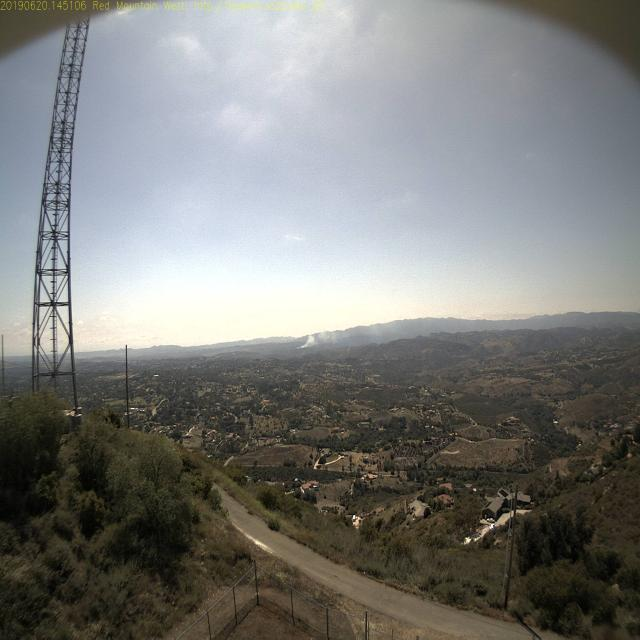smoke: (294, 332, 318, 356)
